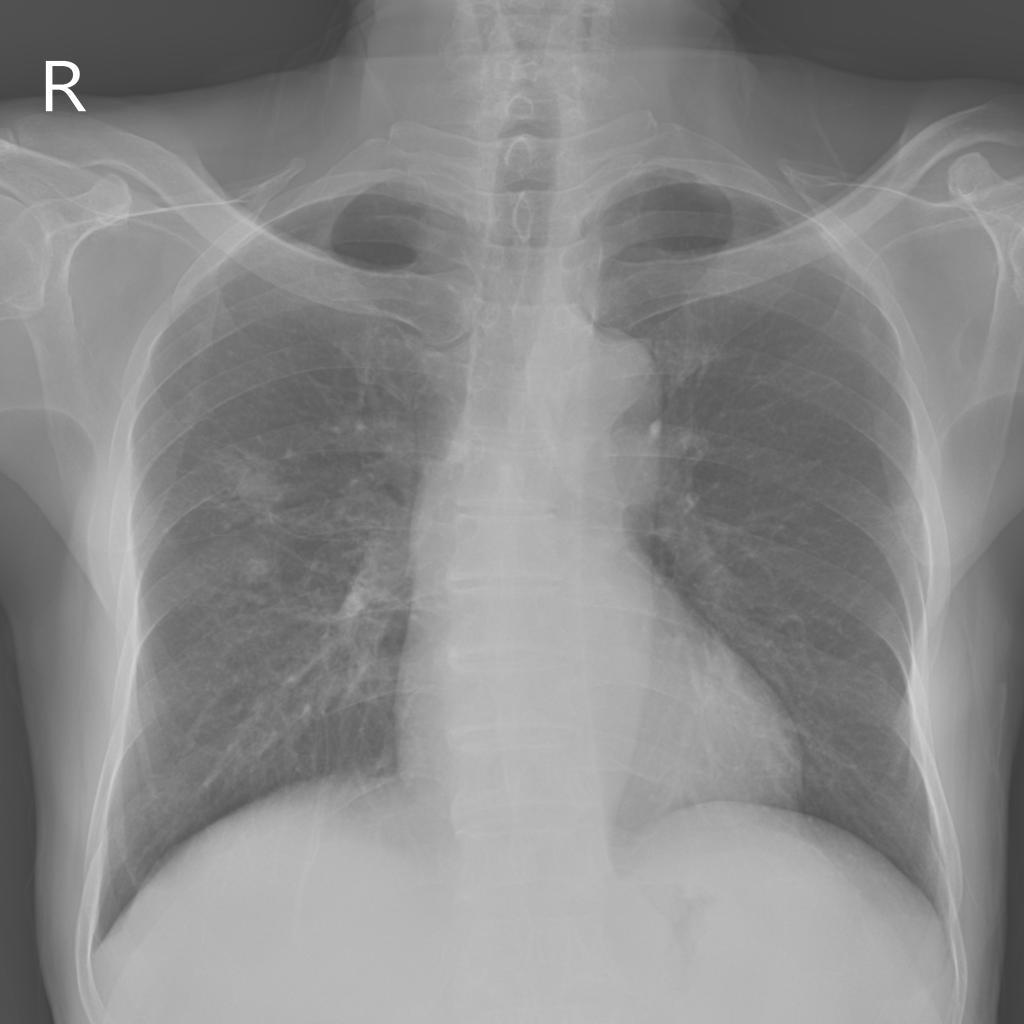Nodule: (238, 474, 283, 513), (240, 559, 270, 585)
